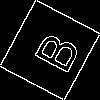B: (25, 25, 82, 76)
